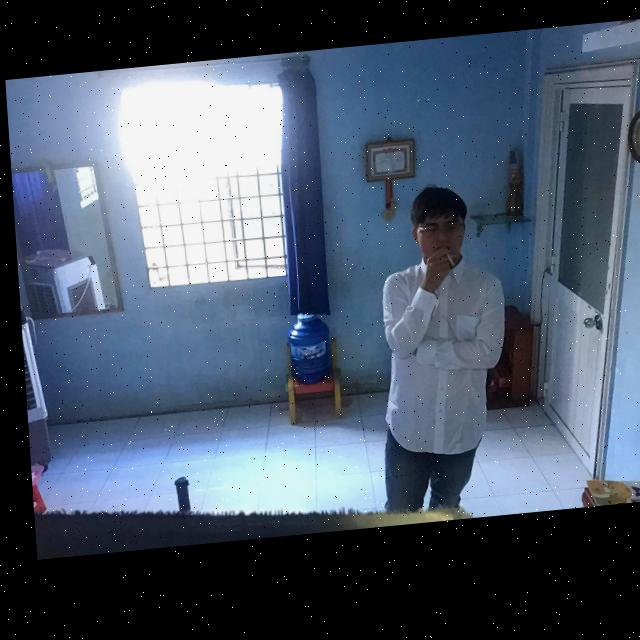cigarette: (442, 262, 452, 276)
